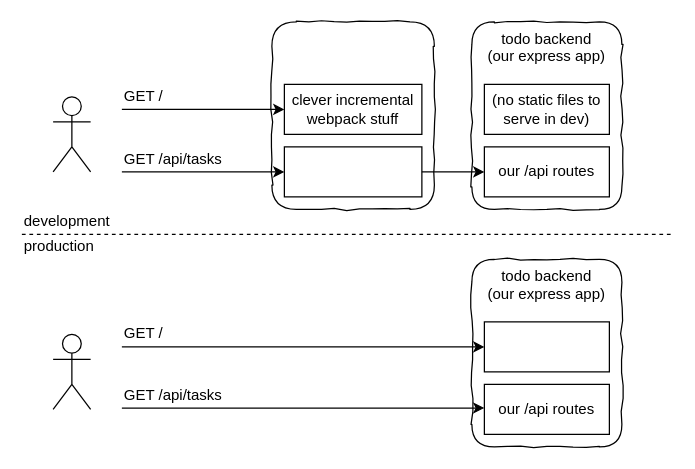
Image size: 695x469. Some labels were removed from this diagram. Each missing label, with the box of its shape:
proxy to backend: (283, 146, 422, 197)
serve static files from dist: (483, 321, 609, 372)
todo frontend (webpack-dev-server): (271, 21, 434, 209)
